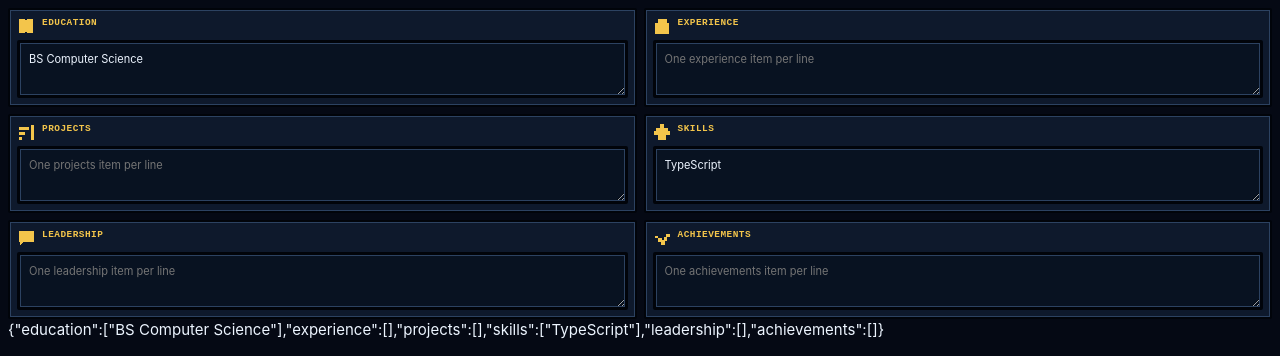
Test: ResumeProfileEditor › preserves a trailing space while typing and removes a deleted item
This screenshot has width=1280, height=356.
In the text box labelled "Skills": (958, 175) top-left (652, 146), bottom-right (1263, 204), type " and CSS"
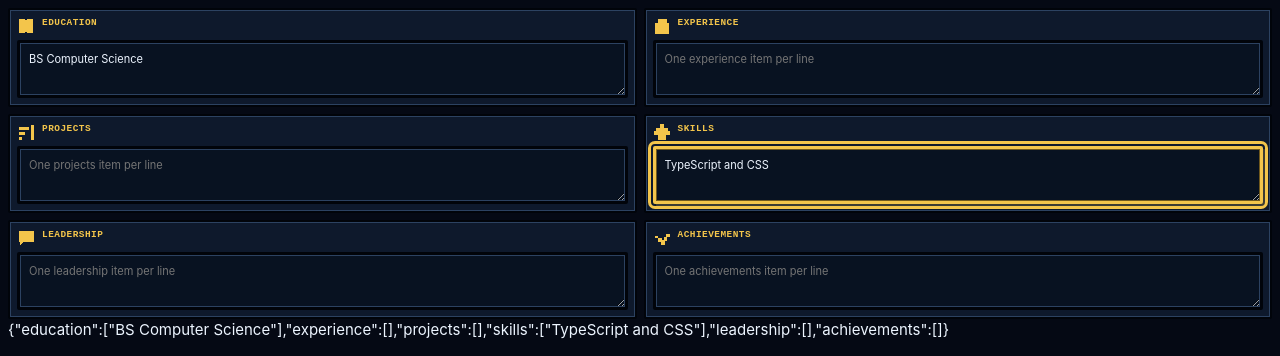
Result: the text box labelled "Skills" holds "TypeScript and CSS"
Replace the text in the text box labelled "Skills" with "React ": (958, 175) top-left (652, 146), bottom-right (1263, 204)
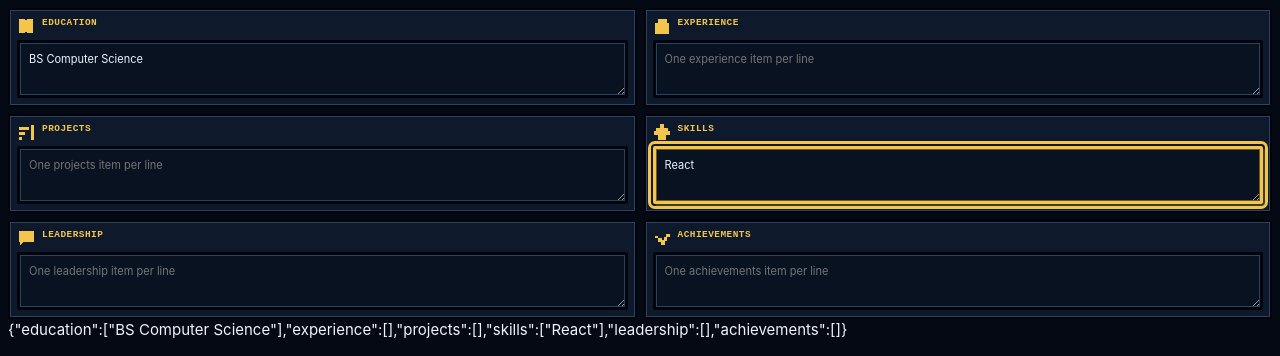
Result: the text named "resume profile value" shows "\"skills\":[\"React\"]" at top-left (8, 320), bottom-right (847, 339)
Clear the text box labelled "Skills": (958, 175) top-left (652, 146), bottom-right (1263, 204)
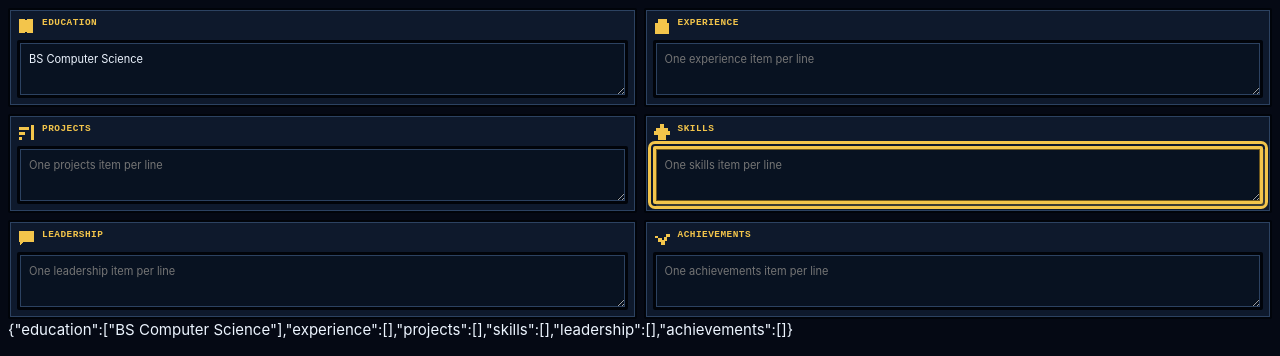
Result: the text named "resume profile value" shows "\"skills\":[]" at top-left (8, 320), bottom-right (793, 339)
